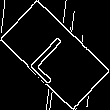L_NE: (27, 26, 83, 84)
